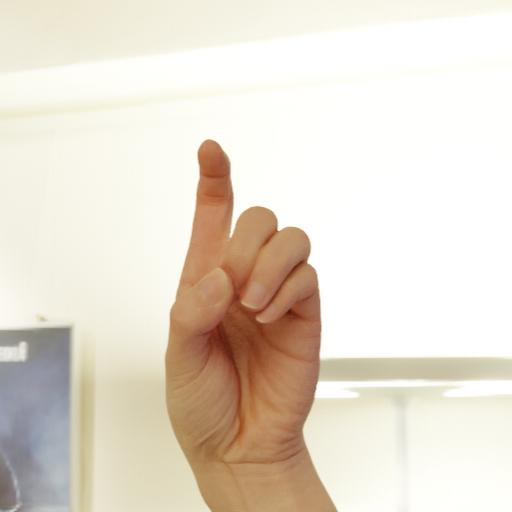X: (142, 117, 332, 512)
